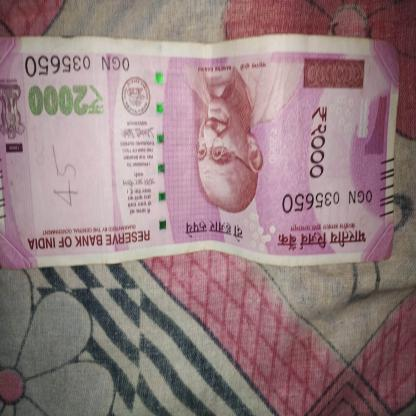New2000Front: (0, 36, 398, 258)
